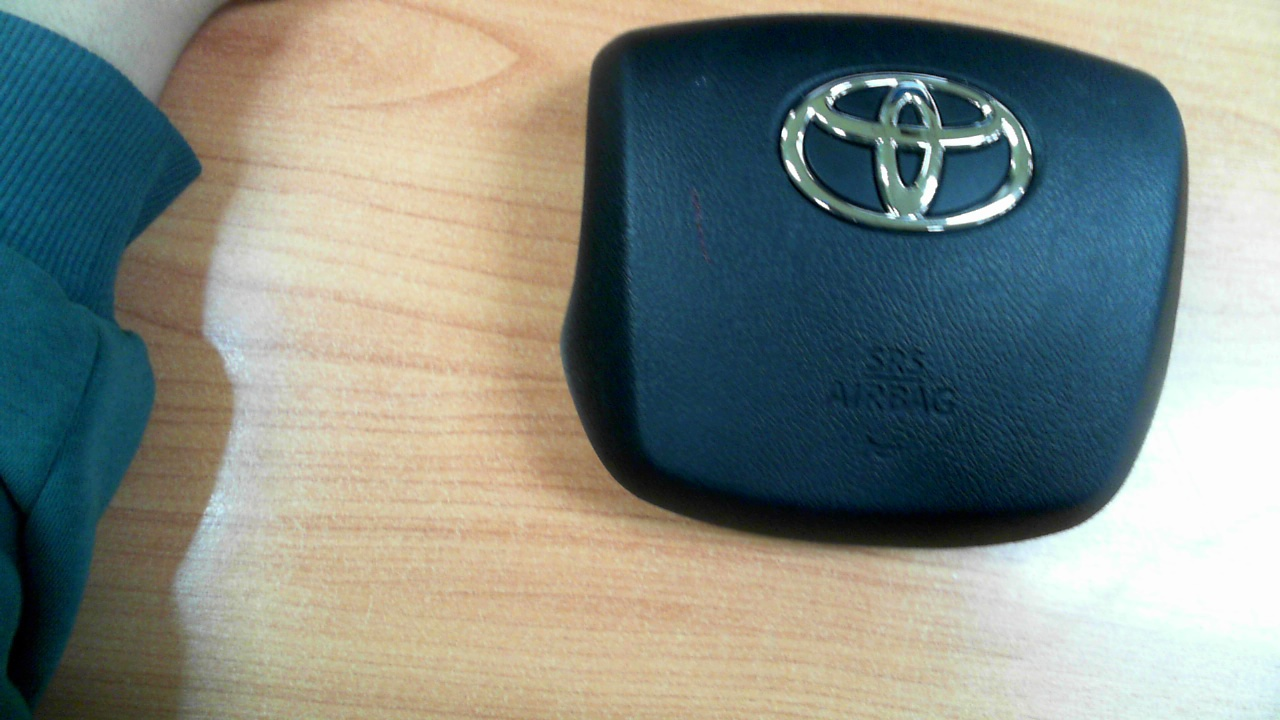Airbag: (558, 13, 1192, 551)
Toyota: (780, 71, 1034, 233)
